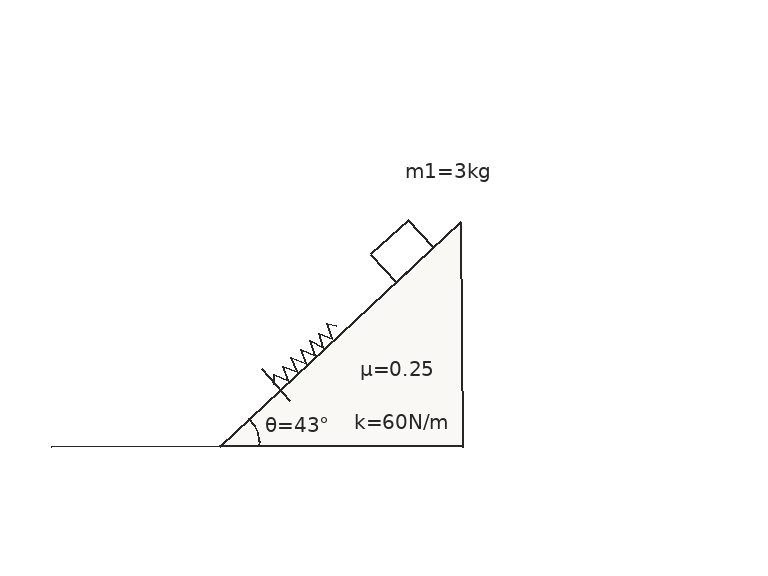block: (368, 218, 435, 284)
ramp: (218, 219, 463, 448)
spring: (272, 322, 339, 385)
